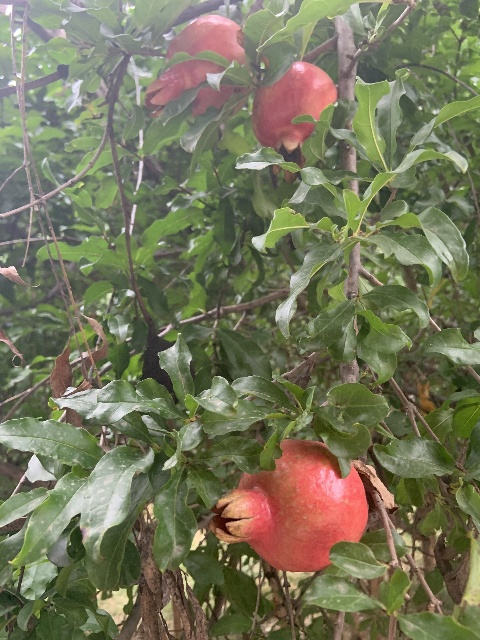ripe: (208, 438, 368, 572), (144, 14, 248, 118), (250, 60, 337, 183)
